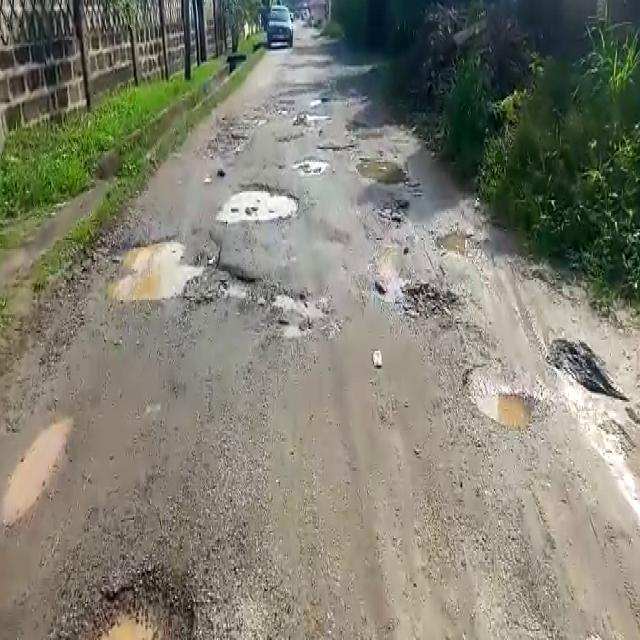Pothole: (100, 231, 262, 305), (75, 564, 198, 640), (3, 416, 75, 526), (465, 363, 542, 431), (546, 342, 630, 404), (218, 182, 303, 223), (398, 278, 462, 328), (272, 292, 330, 341), (436, 224, 489, 260), (356, 156, 412, 189), (293, 156, 332, 173), (317, 138, 357, 152)
